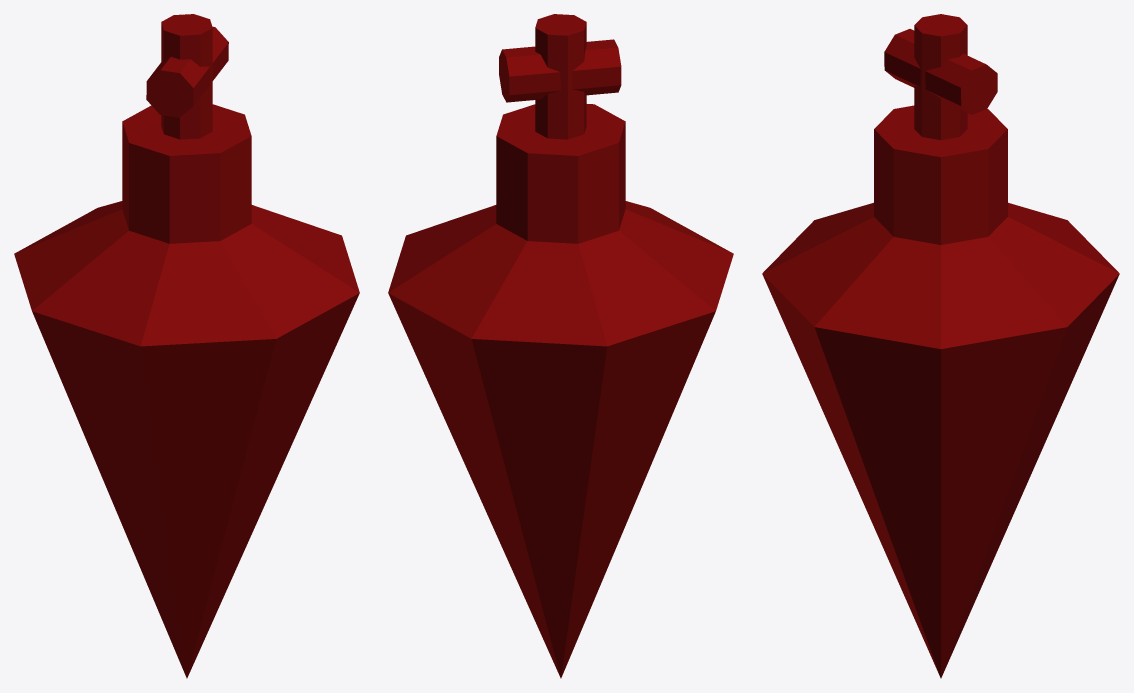
The model's file is red-king-v4.glb.
3 renders of one model, left to right at view 1: azimuth 30°, elevation 25°; view 2: azimuth 150°, elevation 25°; view 3: azimuth 270°, elevation 25°, orthographic.
Visible parts, largest first — view 1: King; view 2: King; view 3: King.
Part boxes in pixels (box(x1,y1,x2,y2)): King: box(14, 14, 359, 678); King: box(388, 14, 733, 678); King: box(762, 14, 1119, 678).
Size of the model in its own units: 0.1454 by 0.293 by 0.1454.
